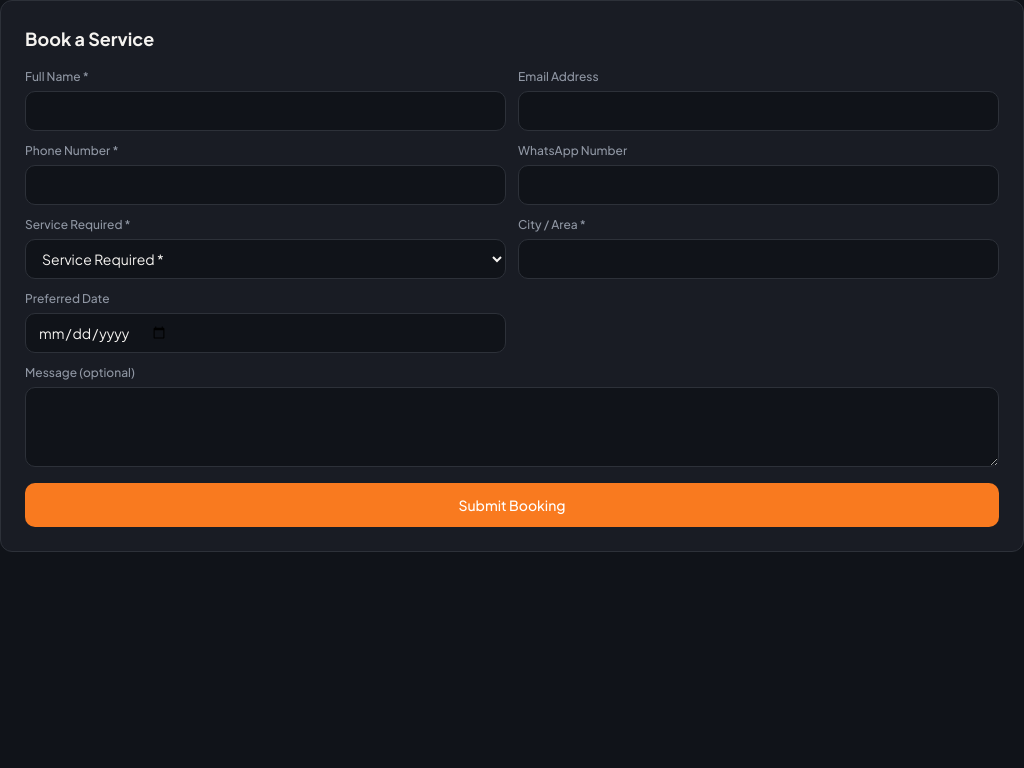
it: QuickBookingForm › blocks submission and reports the field when the phone number is invalid
Type "Anjana K" into the field labelled "Full Name *".
click(266, 111); type("Anjana K")  # box [25,91,506,131]
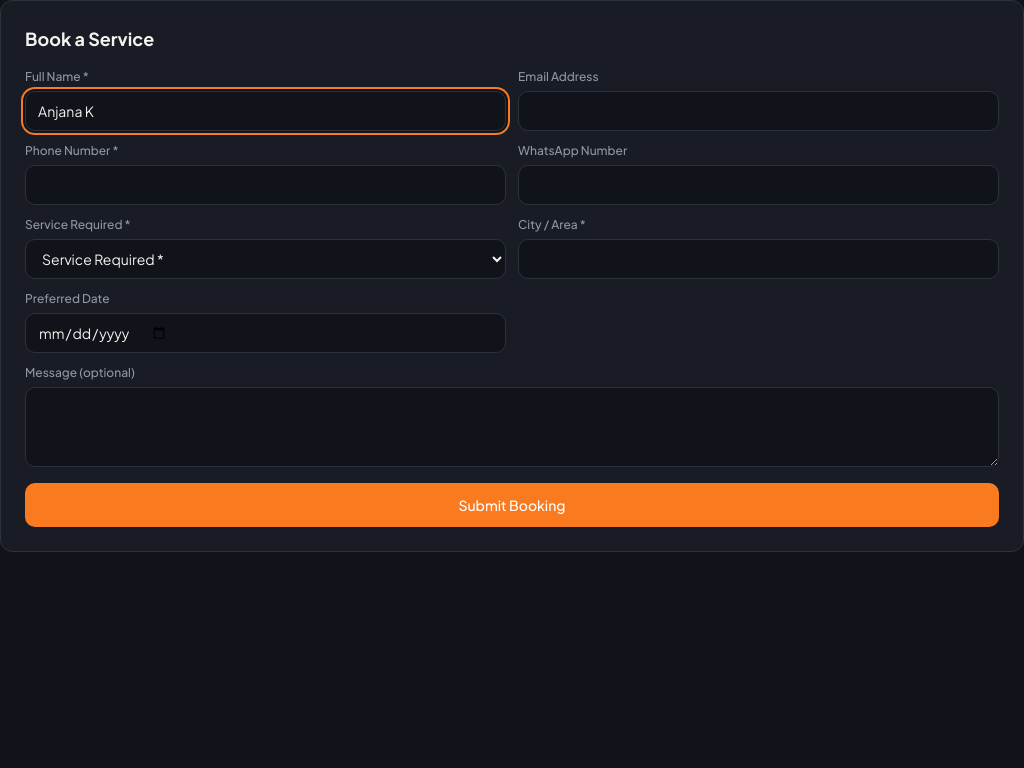
Type "12345" into the field labelled "Phone Number *".
click(266, 185); type("12345")  # box [25,165,506,205]
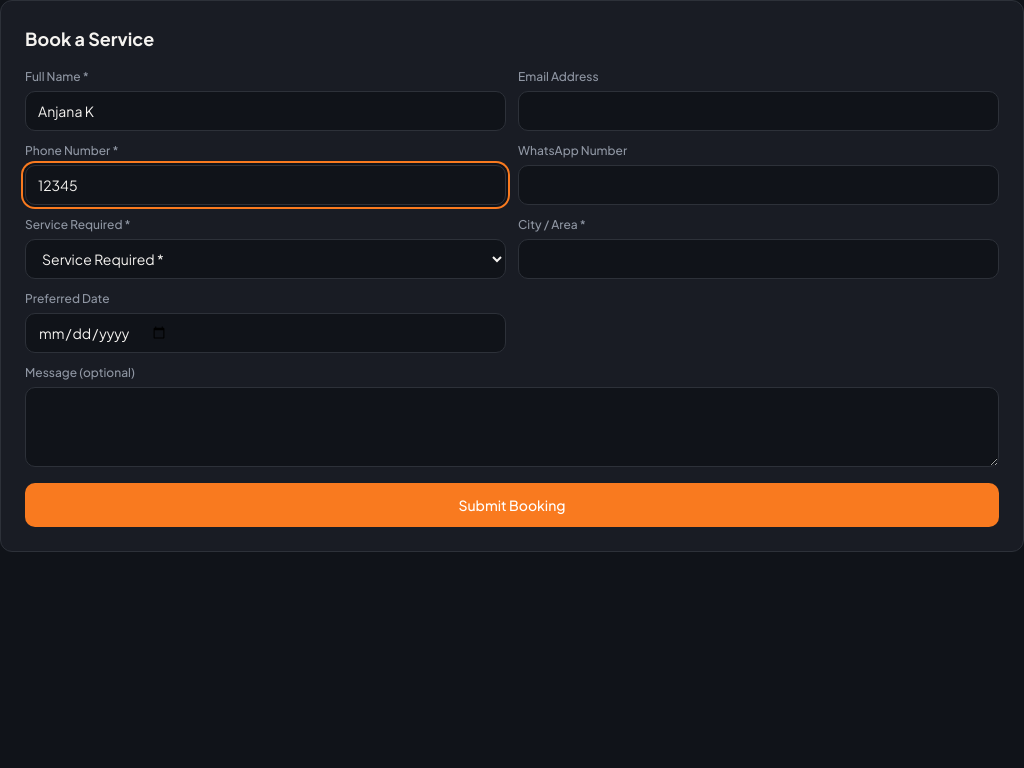
Select "Painting Services" in the dropdown labelled "Service Required *" at (266, 259), box [25,239,506,279]
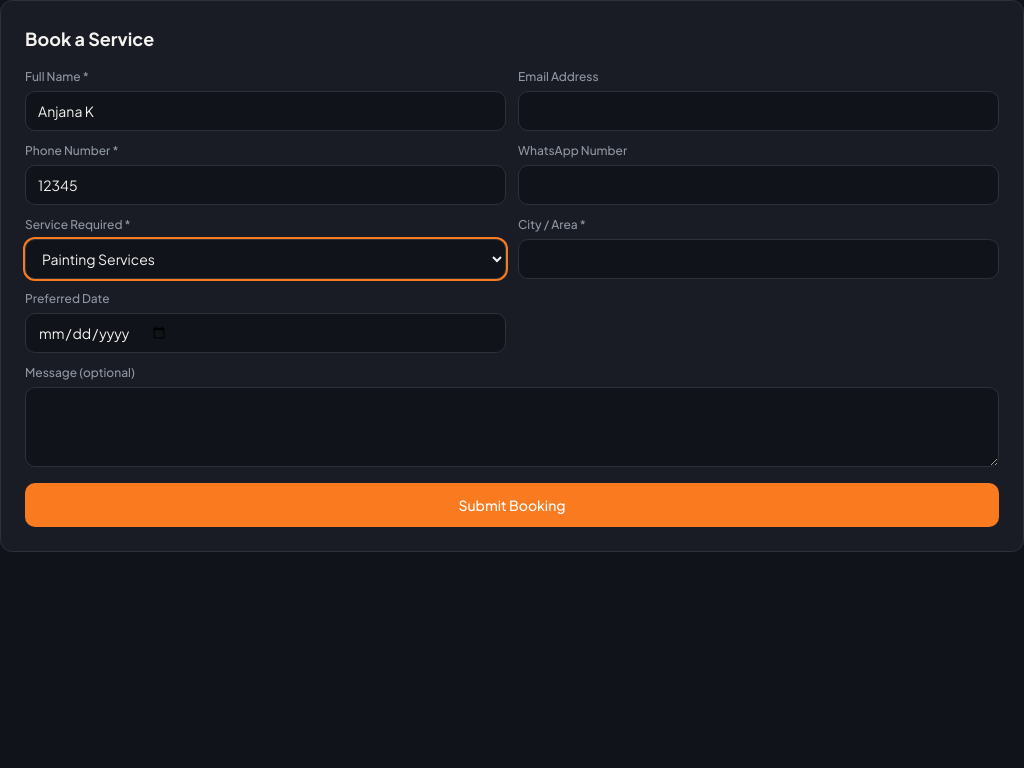
Type "Thalassery" into the field labelled "City / Area *".
click(758, 259); type("Thalassery")  # box [518,239,999,279]
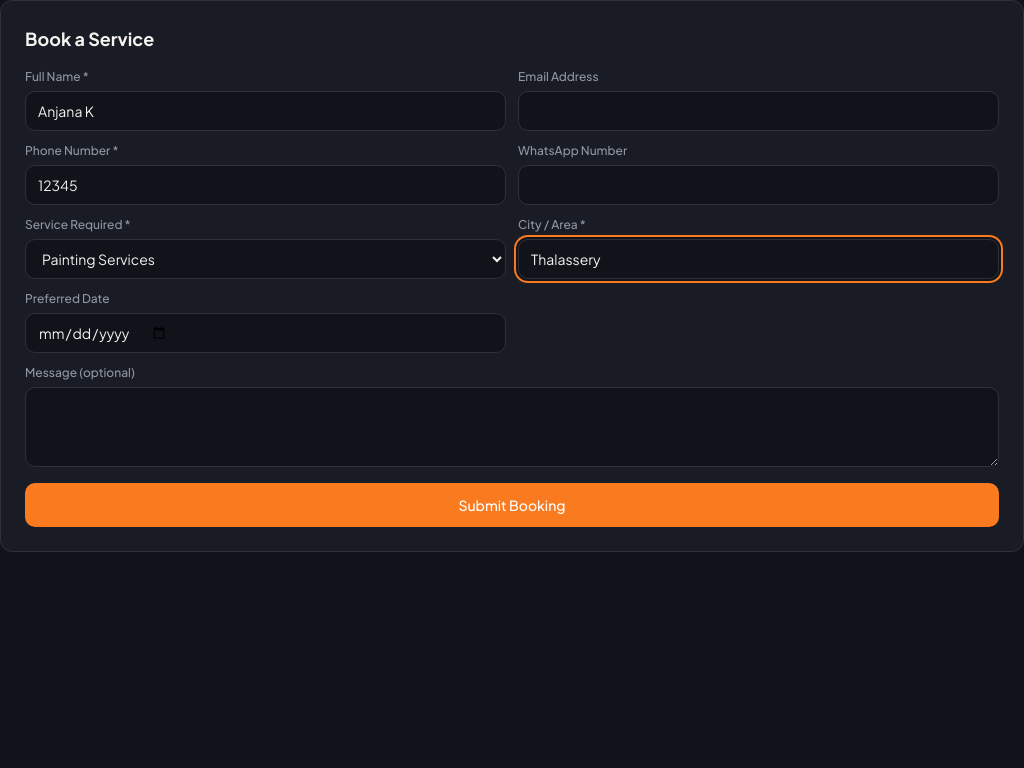
Click the button "Submit Booking".
click(512, 505)  # box [25,483,999,527]
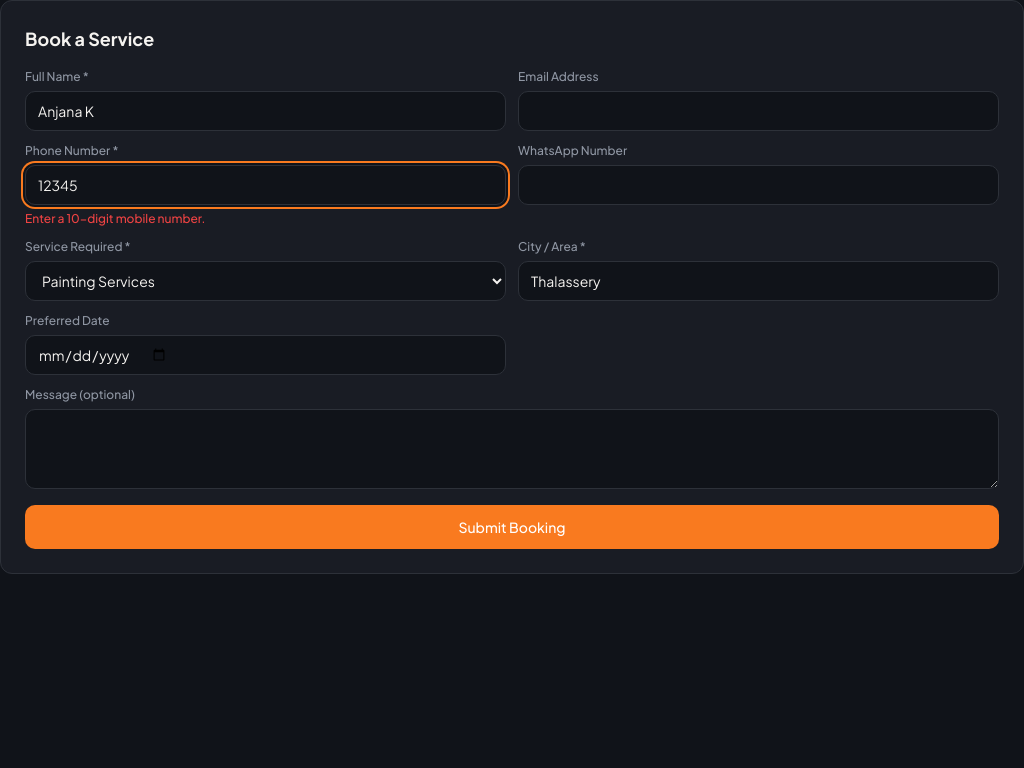
Expected: the message shows "10-digit mobile number", [25,211,205,226]
